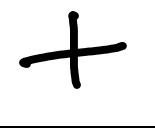plus: (18, 11, 127, 89)
